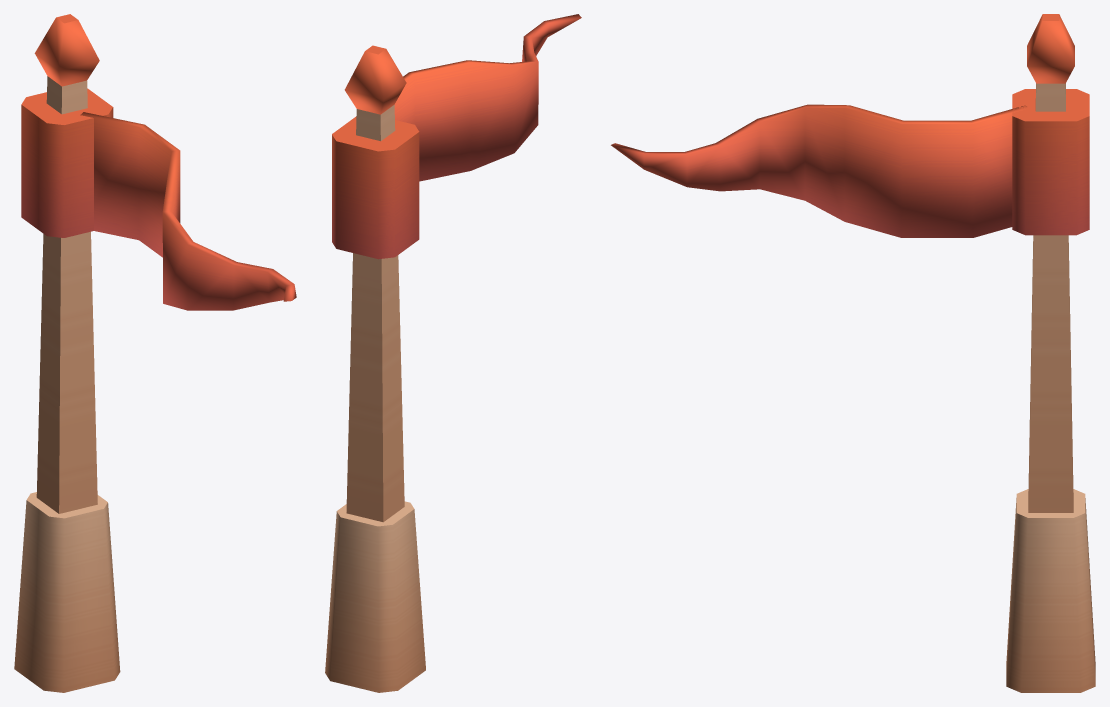
File: flag-pennant.fbx
The picture shows the model from 3 angles, left to right: view 1: azimuth 30°, elevation 25°; view 2: azimuth 150°, elevation 25°; view 3: azimuth 270°, elevation 25°; orthographic projection. The views are drawn at different scales.
Parts seen in each view (by area): view 1: flag-pennant; view 2: flag-pennant; view 3: flag-pennant.
Part boxes in pixels (x1,y1,x2,y2): flag-pennant: (14, 14, 296, 692); flag-pennant: (325, 14, 581, 692); flag-pennant: (611, 14, 1095, 692).
Size of the model in its own units: 0.1073 by 0.5794 by 0.8656.
